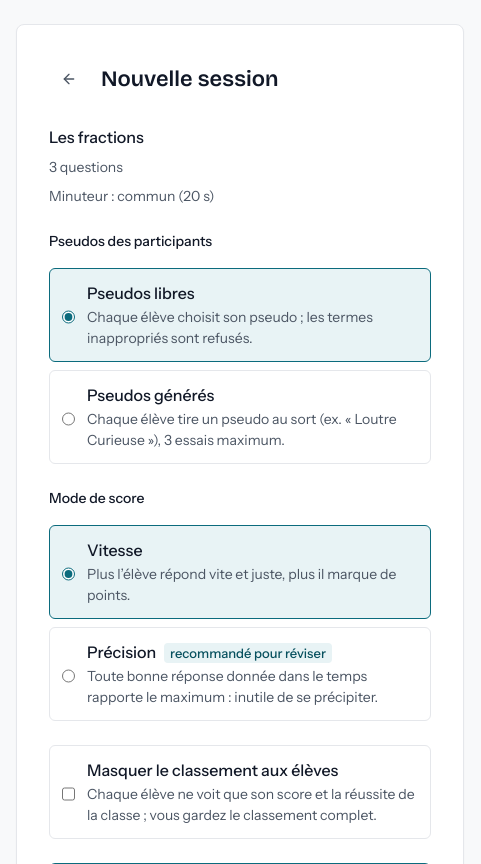
it: Nouvelle session : mode de score et classement › envoie scoringMode: "accuracy" et showLeaderboard: false
Click the radio button labelled "Précision" at (68, 676), box [62,644,75,708]
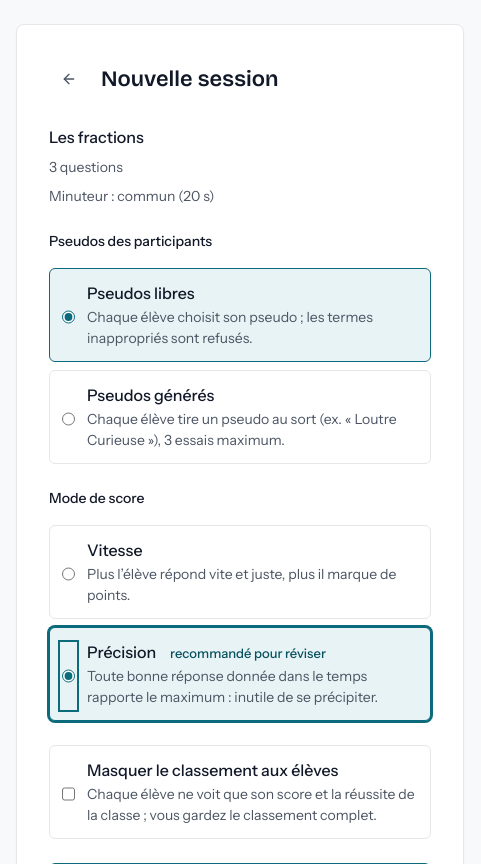
Click the checkbox labelled "Masquer le classement aux élèves" at (68, 794), box [62,762,75,826]
(page scrolled)
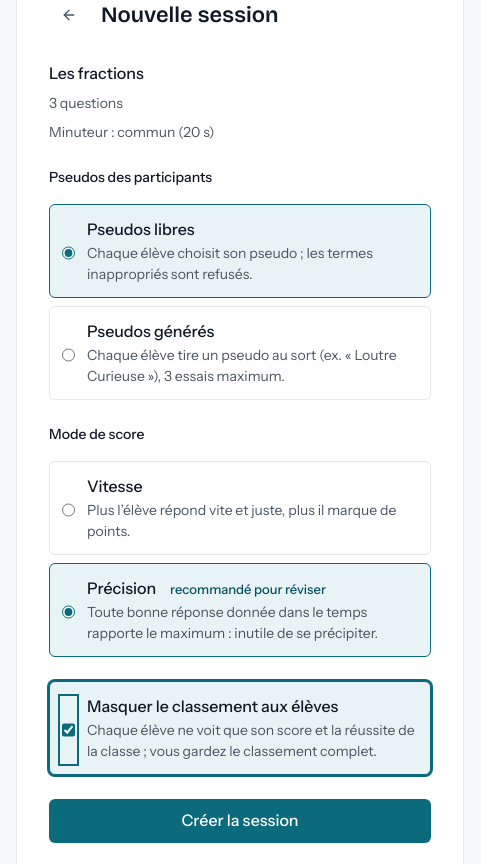
Click the button "Créer la session" at (240, 821), box [49,799,431,843]
(page scrolled)
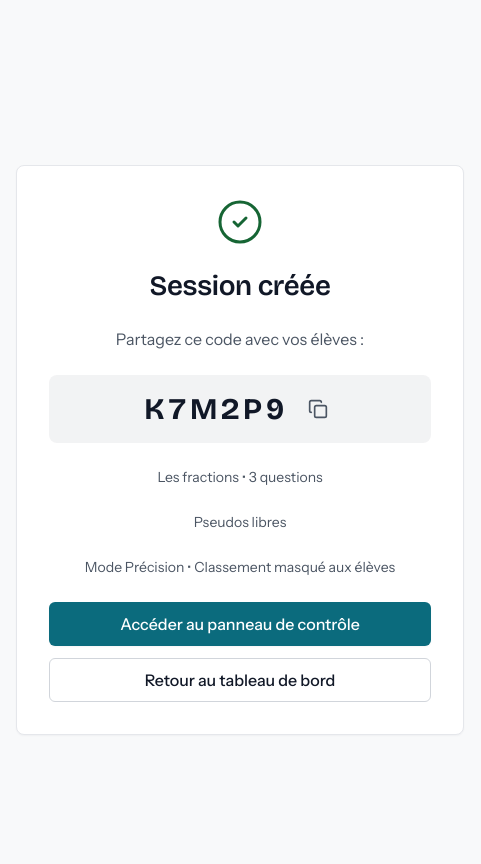
Expected: the text with test id "session-scoring-summary" reads "Mode Précision • Classement masqué aux élèves", [85,558,395,576]
